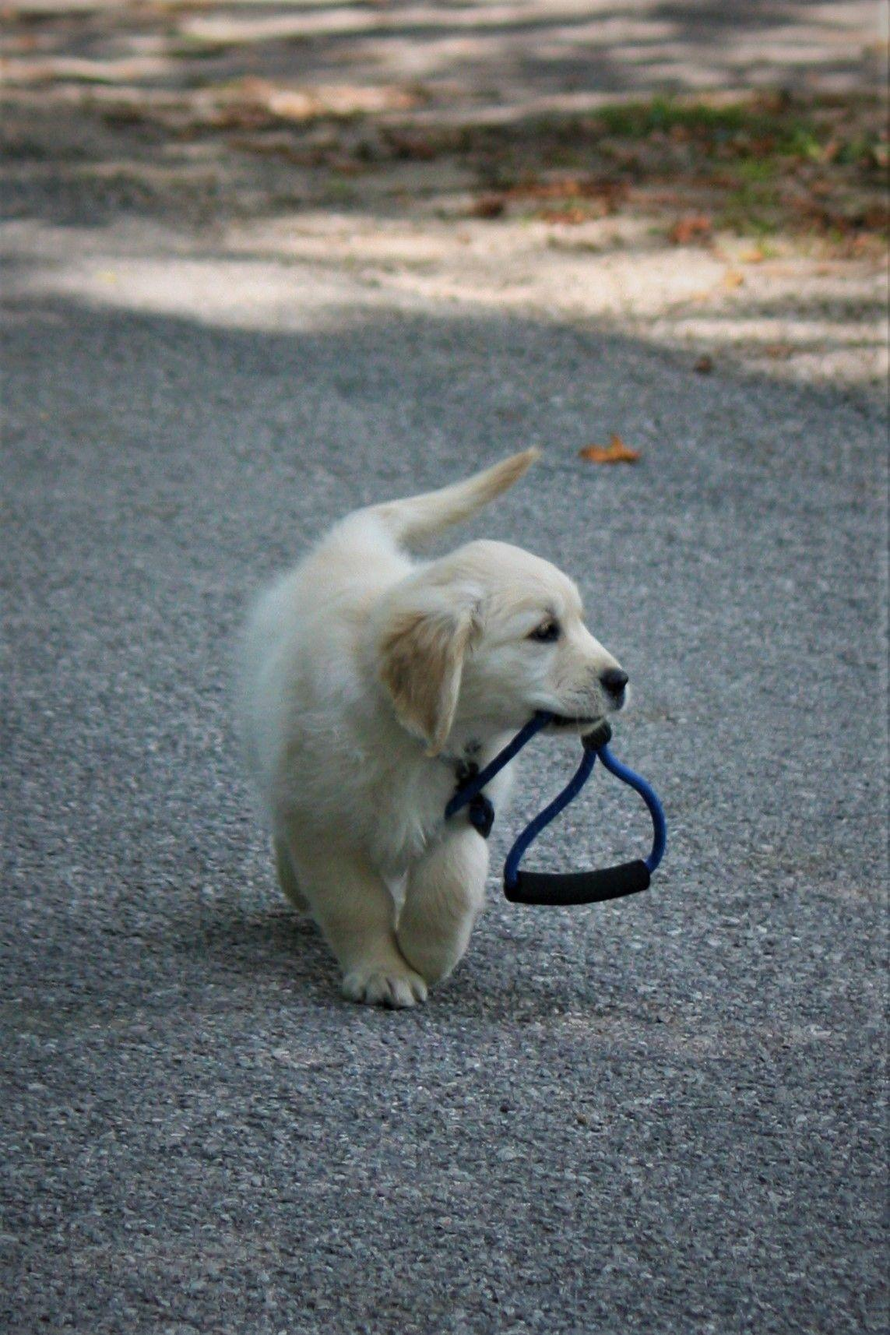puppy-dog: (241, 444, 631, 1013)
